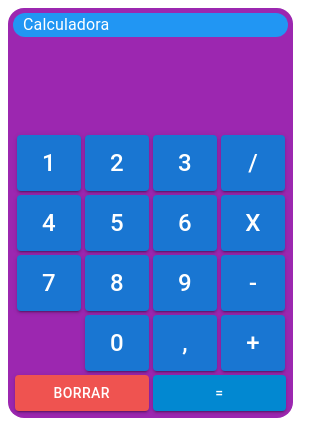
Test: Calculadora › Debe agregar el valor del boton dentro del input
This screenshot has width=320, height=435.
What coordinates should you click on to do the following:
click the button "1"
I would click on:
 (49, 163)
Its box is top-left (17, 135), bottom-right (81, 191).
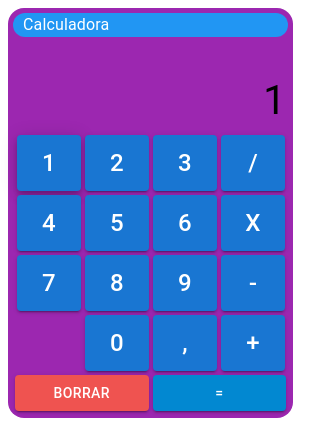
Check: the field with test id "resultado" holds "1", box top-left (13, 70), bottom-right (288, 131)
